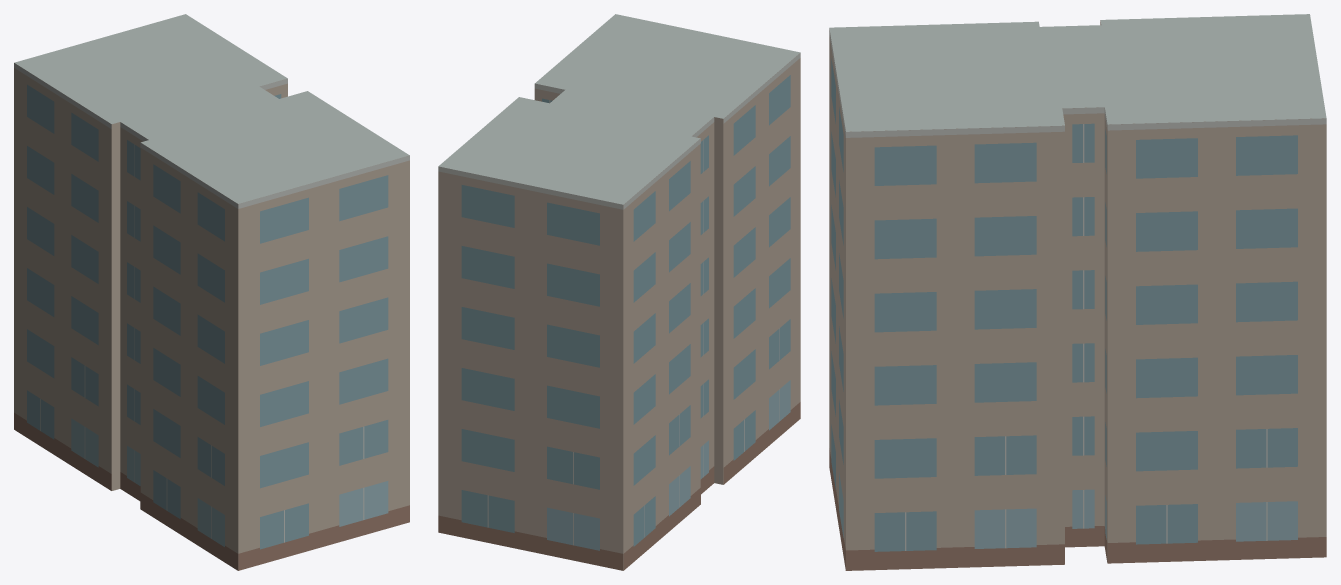
Rendered from survey-upis-32627952.glb.
The picture shows the model from 3 angles, left to right: view 1: azimuth 30°, elevation 25°; view 2: azimuth 150°, elevation 25°; view 3: azimuth 270°, elevation 25°; orthographic projection. The views are drawn at different scales.
Parts seen in each view (by area): view 1: survey-upis-32627952.tmp; view 2: survey-upis-32627952.tmp; view 3: survey-upis-32627952.tmp.
Part boxes in pixels (x1=…): survey-upis-32627952.tmp: x1=14, y1=14, x2=409, y2=570; survey-upis-32627952.tmp: x1=438, y1=14, x2=800, y2=570; survey-upis-32627952.tmp: x1=829, y1=14, x2=1326, y2=570.
Size of the model in its own units: 10.2 by 17.7 by 18.18.
